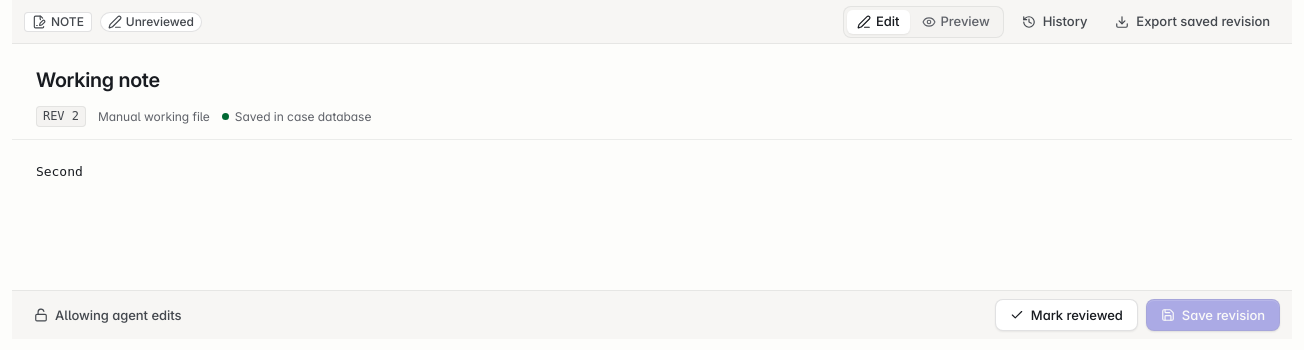
Scenario: opens revision history as a panel, marks the current revision and closes it
Later steps or results of the test are not shown.
Click the button "History".
click(1054, 22)  # box [1012,8,1097,36]
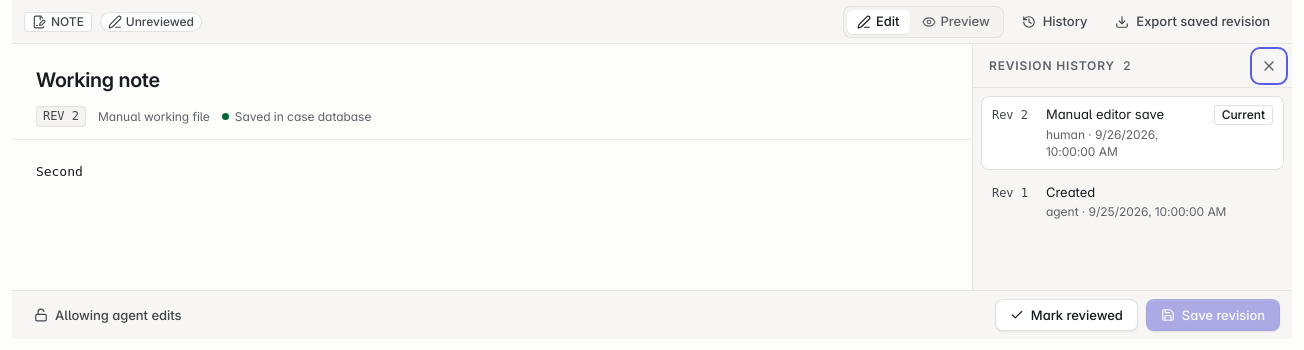
Check: the element "Revision history" shows "Manual editor save", box [1046,106,1164,122]
Check: the element "Revision history" shows "Current", box [1222,107,1265,122]
